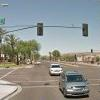Car: (44, 55, 93, 96)
